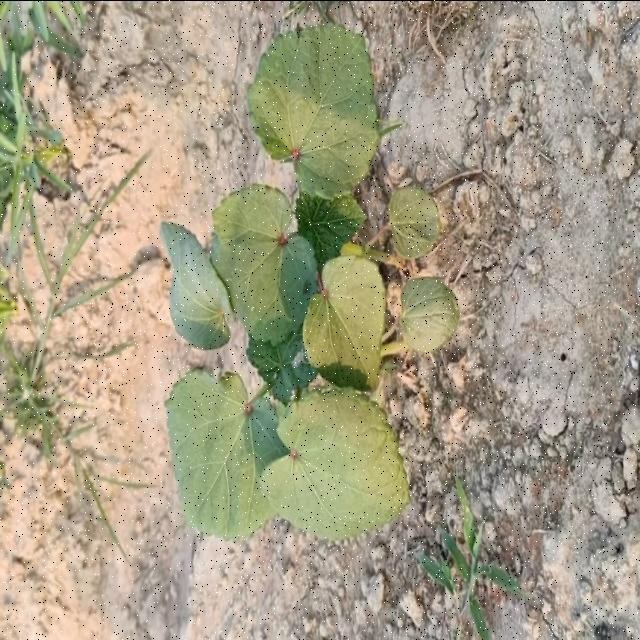plant: (161, 24, 458, 539)
